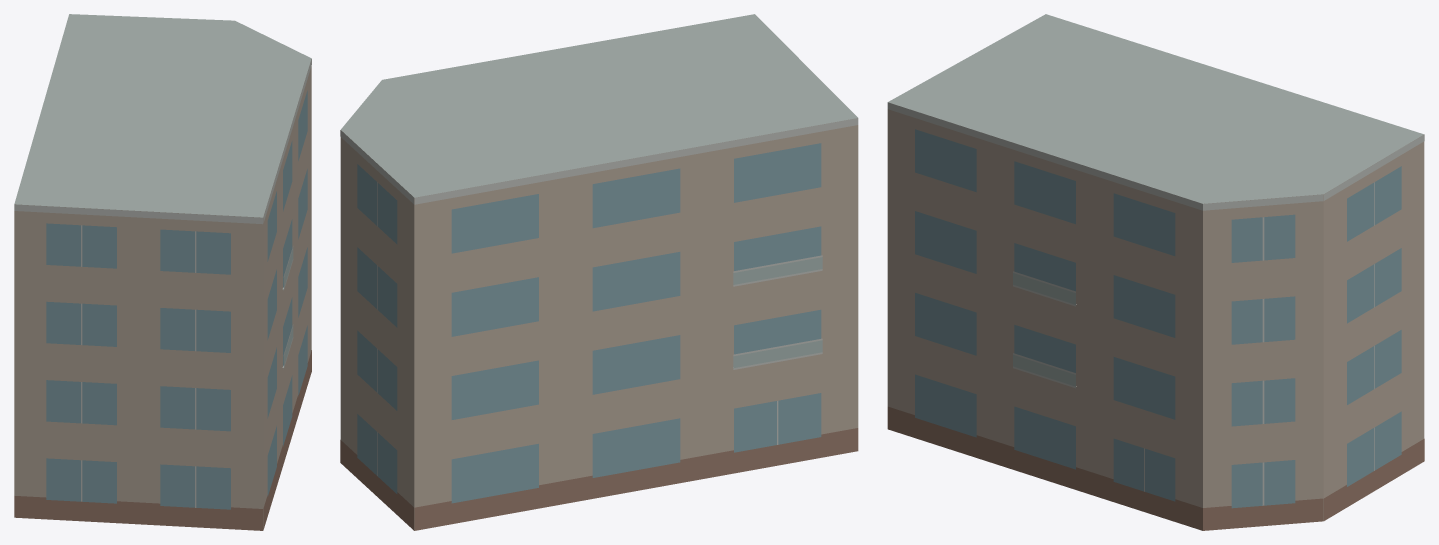
File: survey-upis-32493292.glb
The picture shows the model from 3 angles, left to right: view 1: azimuth 30°, elevation 25°; view 2: azimuth 150°, elevation 25°; view 3: azimuth 270°, elevation 25°; orthographic projection. The views are drawn at different scales.
Visible parts, largest first — view 1: survey-upis-32493292.tmp; view 2: survey-upis-32493292.tmp; view 3: survey-upis-32493292.tmp.
Part boxes in pixels (x1,y1,x2,y2): survey-upis-32493292.tmp: (14,14,311,530); survey-upis-32493292.tmp: (340,14,858,530); survey-upis-32493292.tmp: (887,14,1424,530).
Size of the model in its own units: 14.45 by 11.6 by 17.26.
